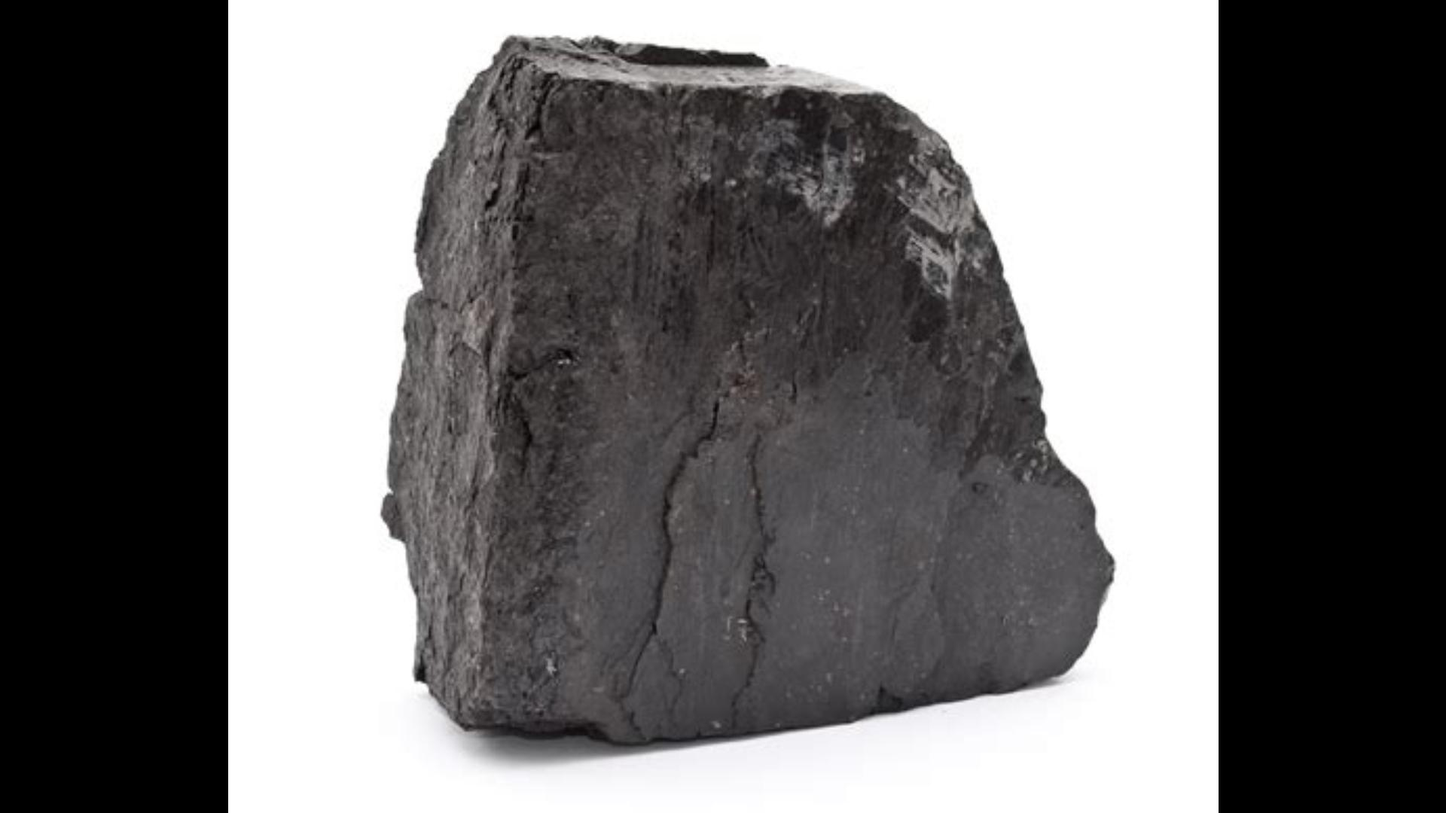rock: (384, 40, 1110, 740)
